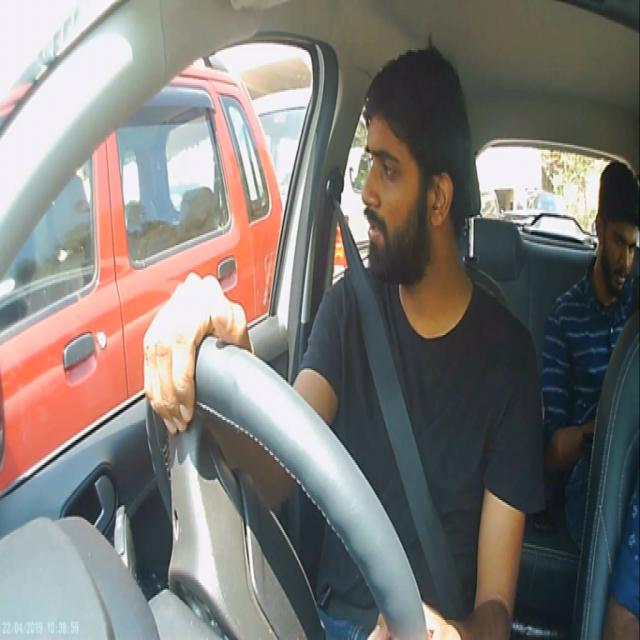seatbelt: (338, 314, 502, 618)
